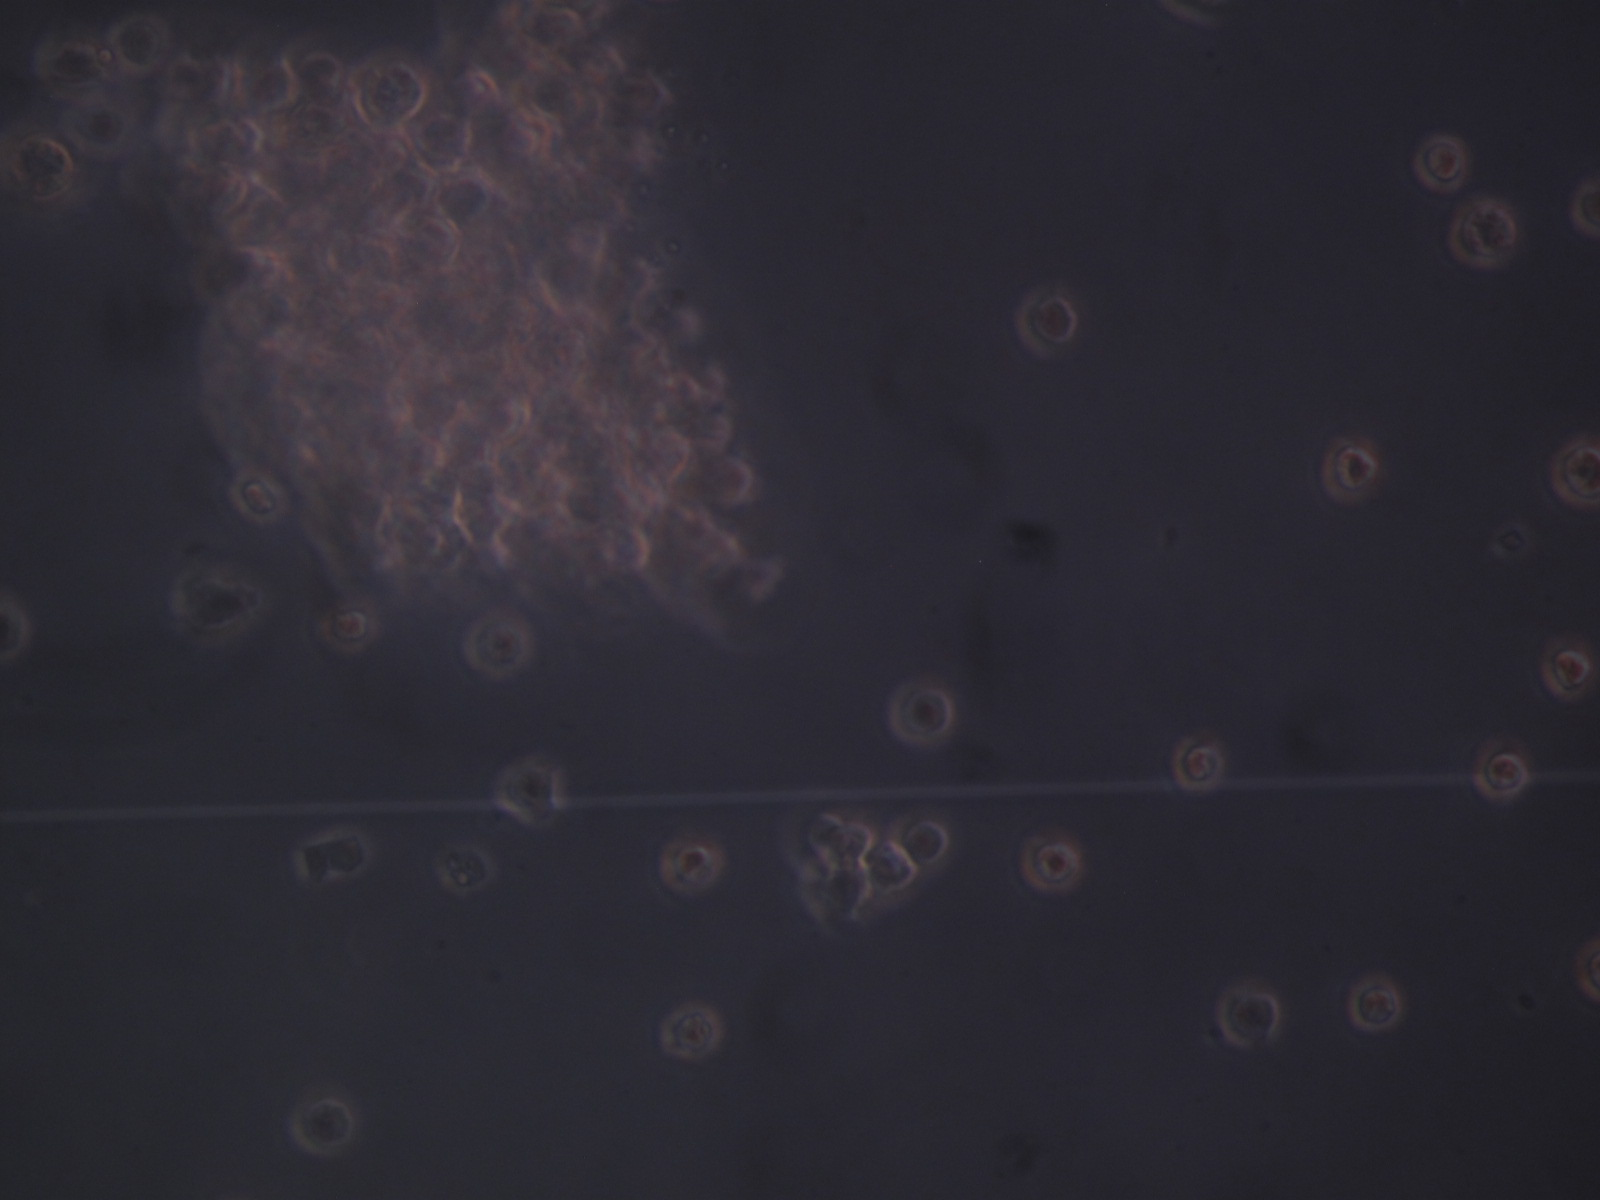hemo: (170, 570, 262, 639), (461, 609, 534, 677), (1322, 437, 1390, 511), (354, 62, 428, 127), (801, 863, 878, 926), (884, 676, 952, 746), (889, 807, 957, 877), (290, 1088, 362, 1155), (1015, 286, 1078, 359), (1448, 200, 1519, 263), (1217, 977, 1279, 1049), (494, 758, 559, 824), (656, 834, 724, 896), (407, 112, 472, 175), (311, 596, 380, 655), (1017, 834, 1085, 894), (1548, 436, 1600, 512), (224, 465, 291, 523), (105, 13, 170, 71), (866, 841, 923, 906), (35, 39, 110, 89), (803, 811, 872, 863), (13, 137, 73, 198), (659, 1002, 721, 1060), (64, 102, 129, 156), (1540, 635, 1592, 701), (700, 453, 757, 511), (244, 57, 300, 113), (1474, 737, 1529, 794), (1414, 132, 1465, 193), (1348, 972, 1401, 1030), (438, 843, 496, 892), (294, 52, 346, 105), (1169, 737, 1222, 790)
